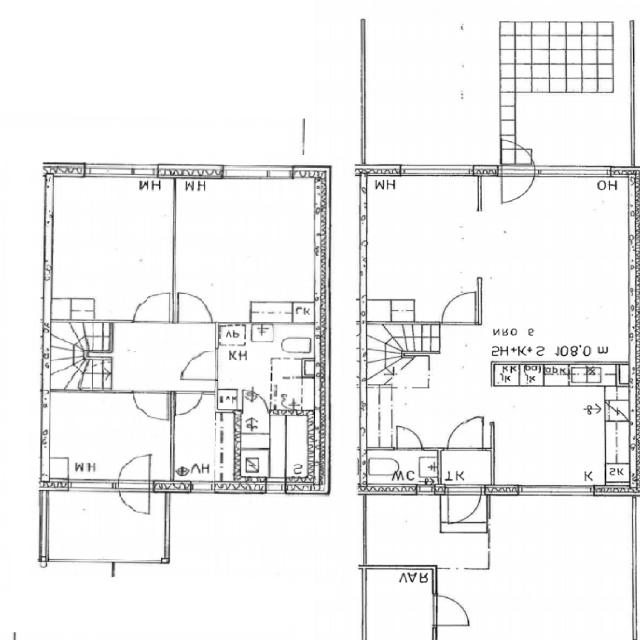door: (448, 484, 482, 524), (502, 166, 535, 206), (502, 137, 535, 177), (118, 454, 150, 494), (118, 481, 150, 520), (433, 595, 473, 626), (135, 290, 170, 323), (178, 290, 212, 323), (181, 351, 218, 380), (443, 293, 476, 325), (449, 419, 482, 450), (134, 390, 167, 421), (243, 388, 268, 416), (175, 390, 202, 415), (397, 426, 422, 451)
